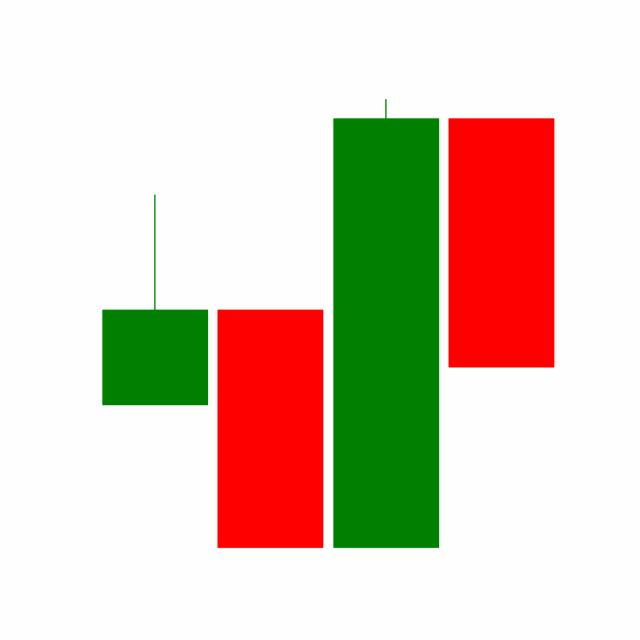Marubozu: (443, 115, 559, 370)
